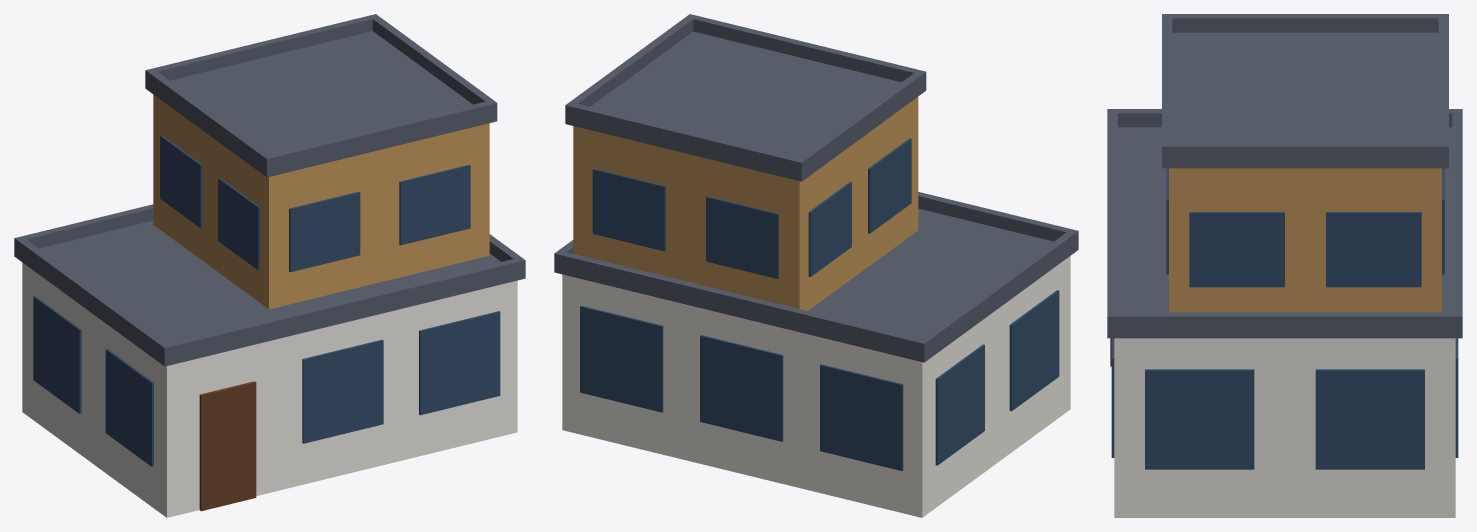
File: house-modern.glb
3 views of the same model, side by side, from view 1: azimuth 30°, elevation 25°; view 2: azimuth 150°, elevation 25°; view 3: azimuth 270°, elevation 25° (orthographic). The views are drawn at different scales.
Parts seen in each view (by area): view 1: House roofs, House ground floor, House windows, House upper floor, House door; view 2: House roofs, House ground floor, House windows, House upper floor; view 3: House roofs, House ground floor, House windows, House upper floor.
Boxes of the visible parts, x1,y1,x2,y2 form: House roofs: (14, 14, 525, 366); House ground floor: (22, 262, 517, 517); House windows: (33, 135, 500, 466); House upper floor: (153, 94, 489, 309); House door: (199, 381, 256, 511); House roofs: (554, 14, 1078, 362); House ground floor: (562, 256, 1070, 517); House windows: (580, 138, 1059, 470); House upper floor: (573, 97, 918, 310); House roofs: (1107, 14, 1462, 338); House ground floor: (1114, 338, 1455, 517); House windows: (1111, 168, 1458, 469); House upper floor: (1169, 168, 1441, 312).
Bounding box in the file's own units: 7.2 × 6 × 5.2.
